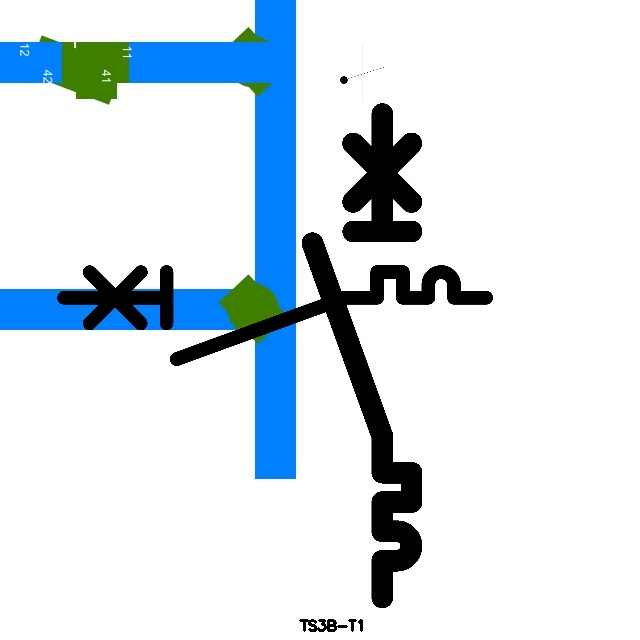interruptor_termomagnetico: (300, 101, 424, 609), (53, 261, 497, 369)
